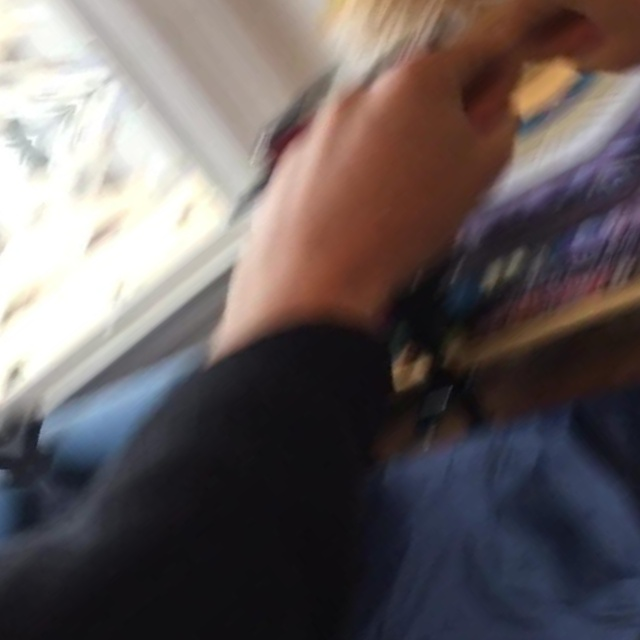Rock: (179, 0, 584, 367)
